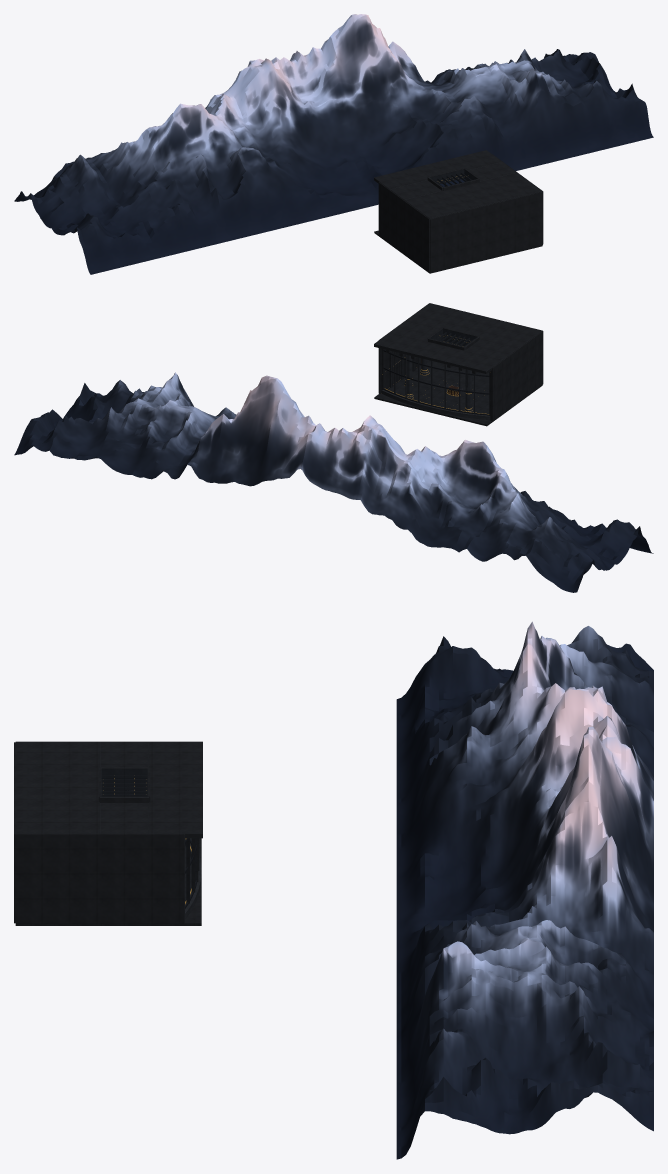
Rendered from vetting_chamber_room.glb.
3 renders of one model, top to bottom at view 1: azimuth 30°, elevation 25°; view 2: azimuth 150°, elevation 25°; view 3: azimuth 270°, elevation 25°, orthographic. The views are drawn at different scales.
Visible parts, largest first — view 1: Alpine_Peaks, Chamber_Walls, Chamber_Ceiling; view 2: Alpine_Peaks, Chamber_Ceiling, Chamber_Walls, Chamber_Floor, Chamber_Window_Frame, Chamber_Columns; view 3: Alpine_Peaks, Chamber_Ceiling, Chamber_Walls, Chamber_Window_Frame, Chamber_Floor.
Part boxes in pixels (x1,y1,x2,y2): Alpine_Peaks: [14, 14, 653, 274]; Chamber_Walls: [378, 154, 543, 272]; Chamber_Ceiling: [374, 150, 542, 218]; Alpine_Peaks: [14, 372, 653, 592]; Chamber_Ceiling: [374, 303, 542, 374]; Chamber_Walls: [378, 303, 543, 421]; Chamber_Floor: [374, 360, 542, 426]; Chamber_Window_Frame: [381, 349, 490, 419]; Chamber_Columns: [404, 355, 473, 412]; Alpine_Peaks: [396, 621, 653, 1159]; Chamber_Ceiling: [15, 741, 202, 838]; Chamber_Walls: [14, 742, 184, 923]; Chamber_Window_Frame: [185, 838, 201, 919]; Chamber_Floor: [15, 838, 201, 925].
Size of the model in its own units: 72 by 17 by 42.3.
Materials: 9 (6 with a texture image).
